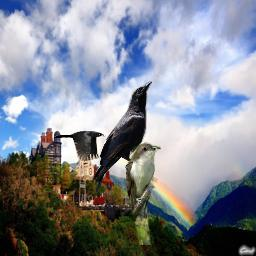Crow: (91, 81, 152, 192), (54, 130, 106, 161)
Cuckoo: (126, 140, 161, 245)
